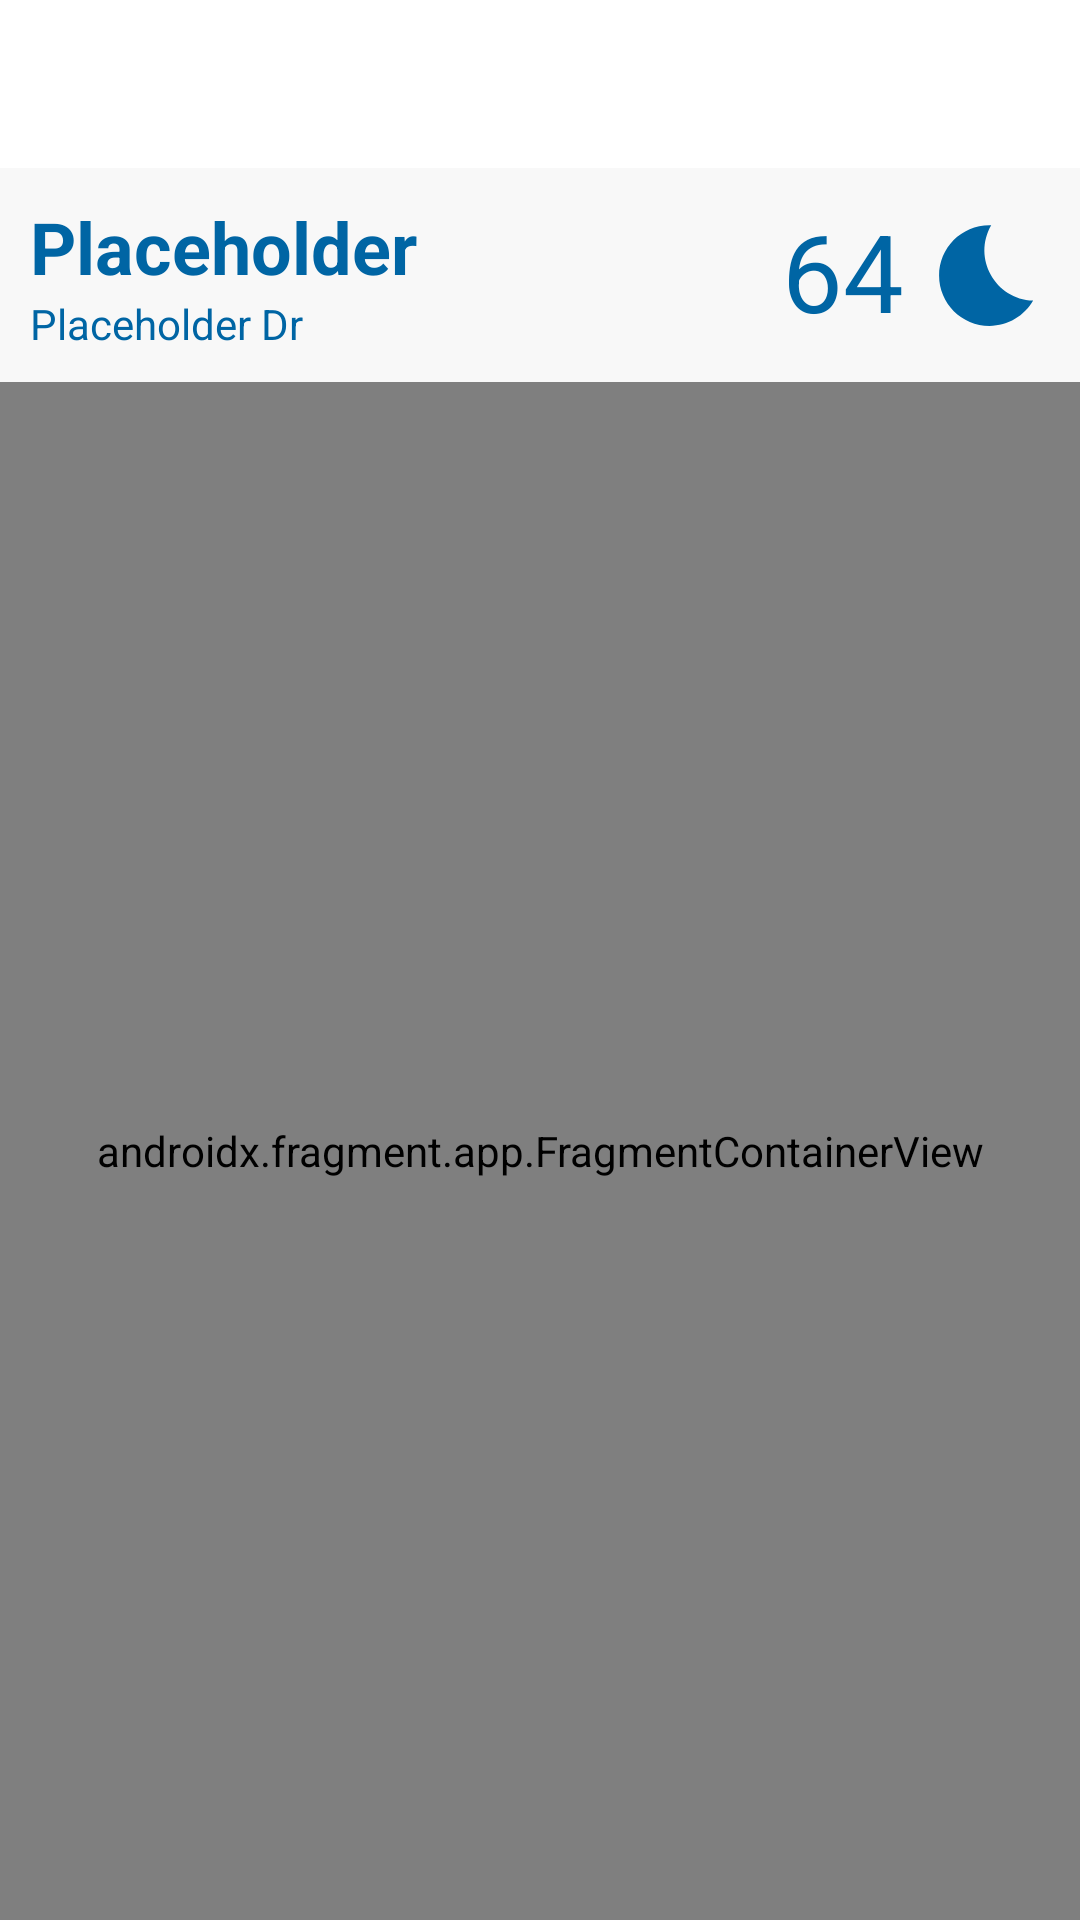

Screen size 1080px×1920px. Icon name, then its box in pixels as (x1, y1, x2, y2):
night: (939, 225, 1033, 326)
